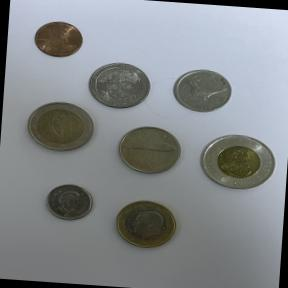1 Euro-B: (108, 194, 184, 255)
2 Euro-B: (18, 98, 100, 158)
Canada-10cent-B: (37, 177, 97, 228)
Canada-2Dollar-B: (194, 128, 282, 199)
Croatia-2Kune-B: (110, 122, 185, 180)
US-1cent-B: (29, 18, 87, 64)
US-25cent-B: (84, 58, 156, 112)
